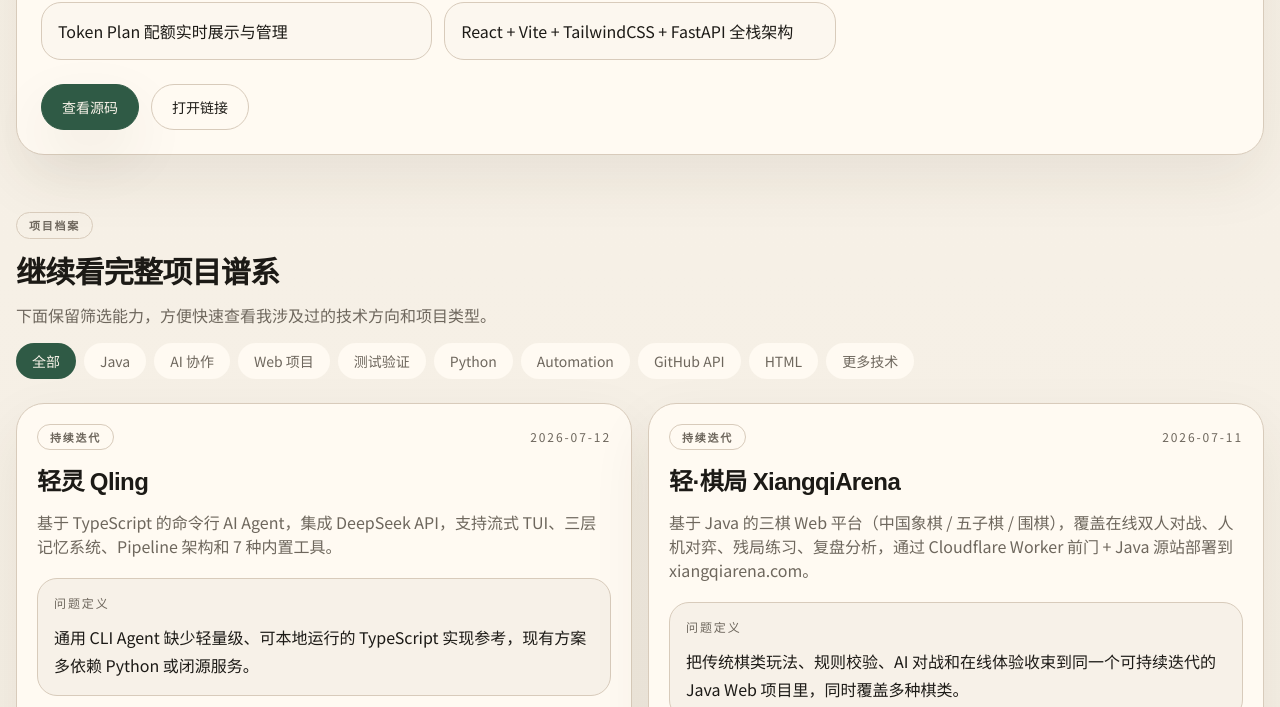
content page redesign plan › projects page collapses long technology filter lists until expanded
(page scrolled)
Expected: the button "Vercel" is not shown
Click the button "更多技术" at (870, 360), box [826, 342, 914, 378]
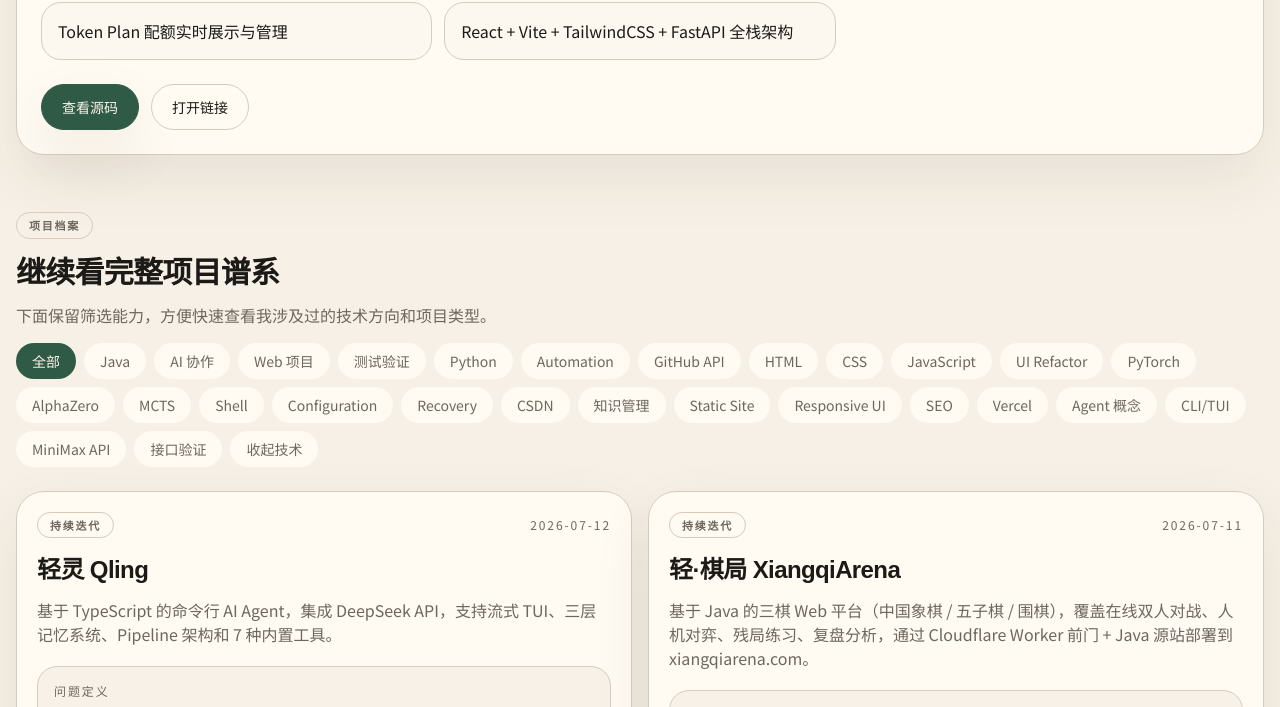
Now the button "Vercel" is shown, box [977, 386, 1048, 422]
